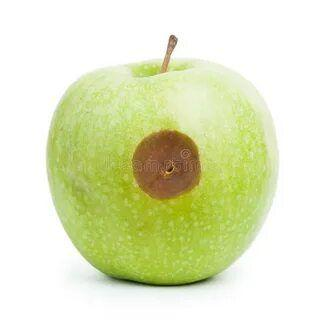Apple: (44, 52, 279, 288)
